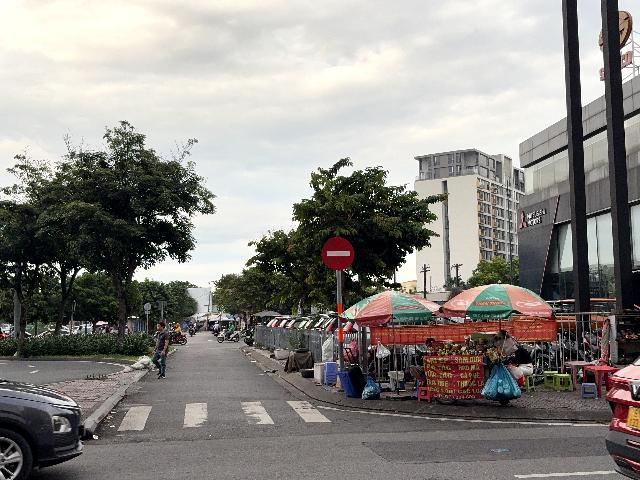cam-di-nguoc-chieu: (322, 237, 354, 271)
